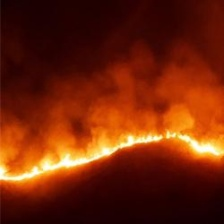fire: (1, 119, 224, 185)
